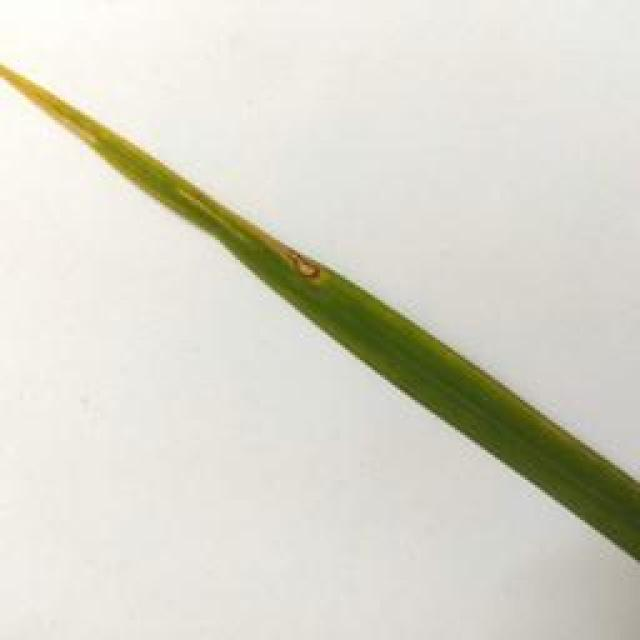Unhealthy: (212, 205, 328, 283), (0, 65, 95, 147)
